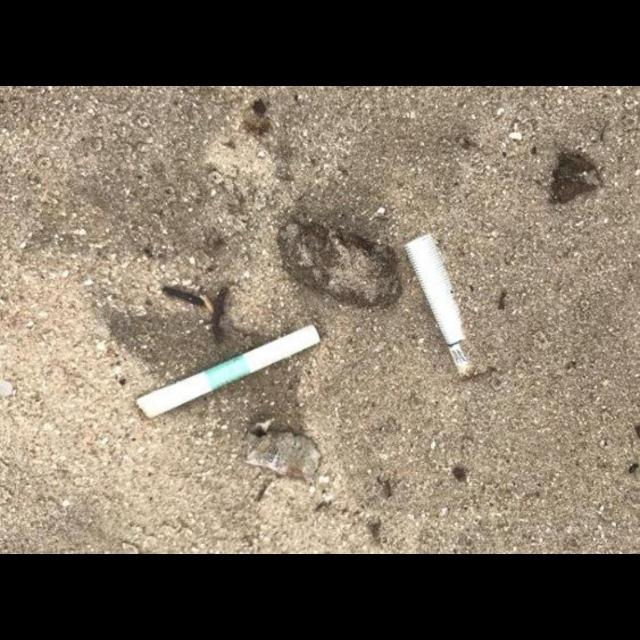cigarette: (136, 326, 319, 419), (405, 234, 488, 382)
